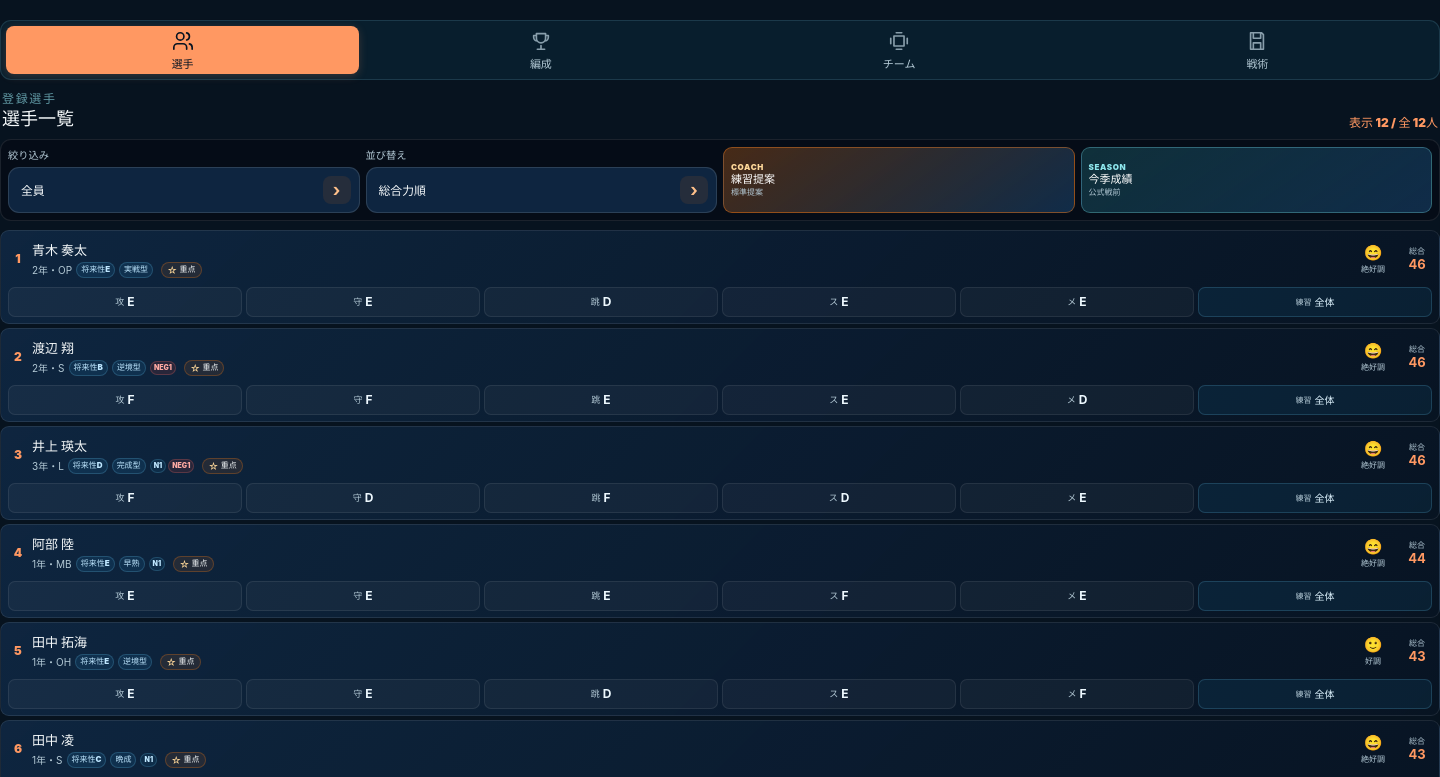
Phase21 Player Hub personality › shows the selected player's public personality and qualitative tendencies
Click the button "田中 拓海".
click(60, 641)  # box [26,627,93,655]
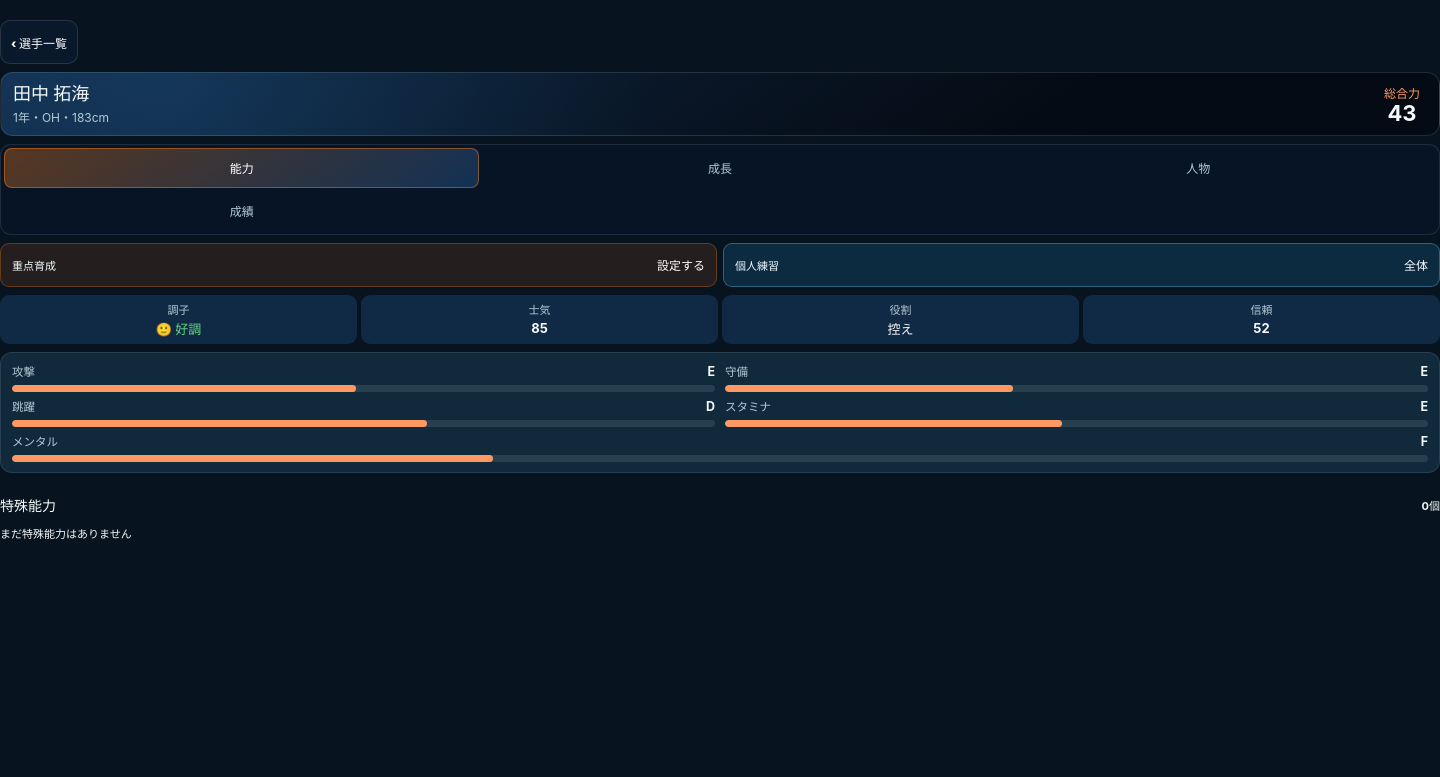
Click the button "人物".
click(1198, 168)  # box [961,148,1436,188]
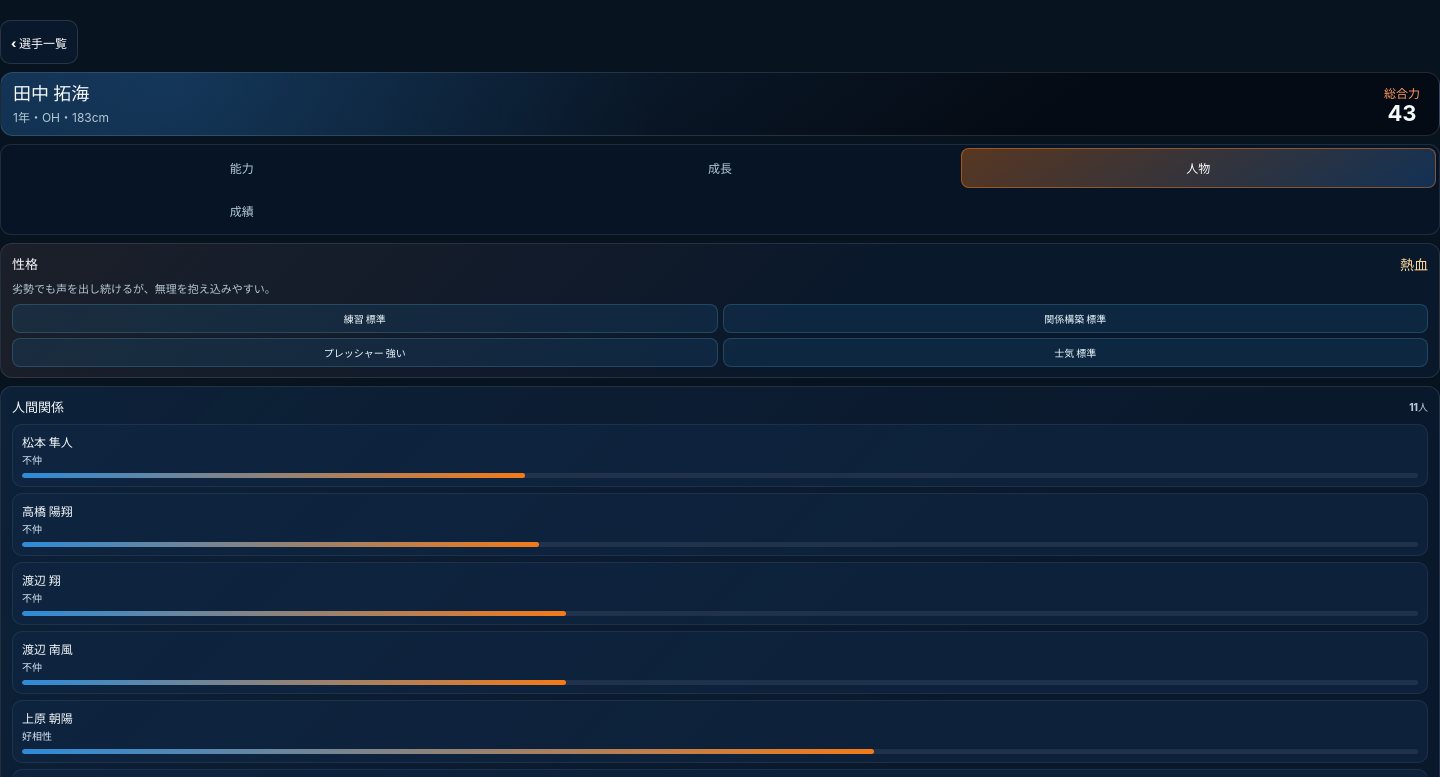
Now the heading "性格" is shown, box [12,254,38,273]
Now the text "熱血" is shown, box [1400,254,1428,274]
Now the text "劣勢でも声を出し続けるが、無理を抱え込みやすい。" is shown, box [12,282,276,296]
